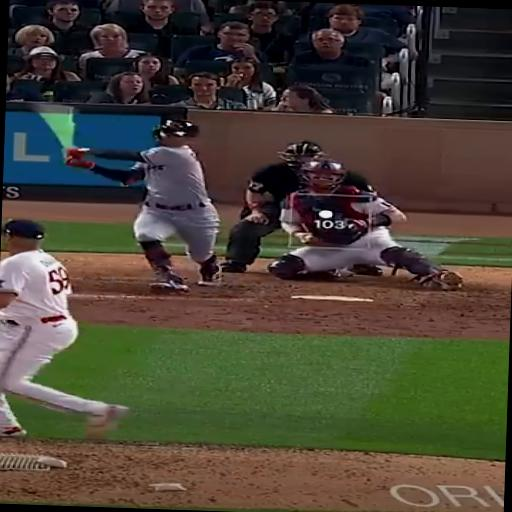bat: (35, 104, 74, 152)
